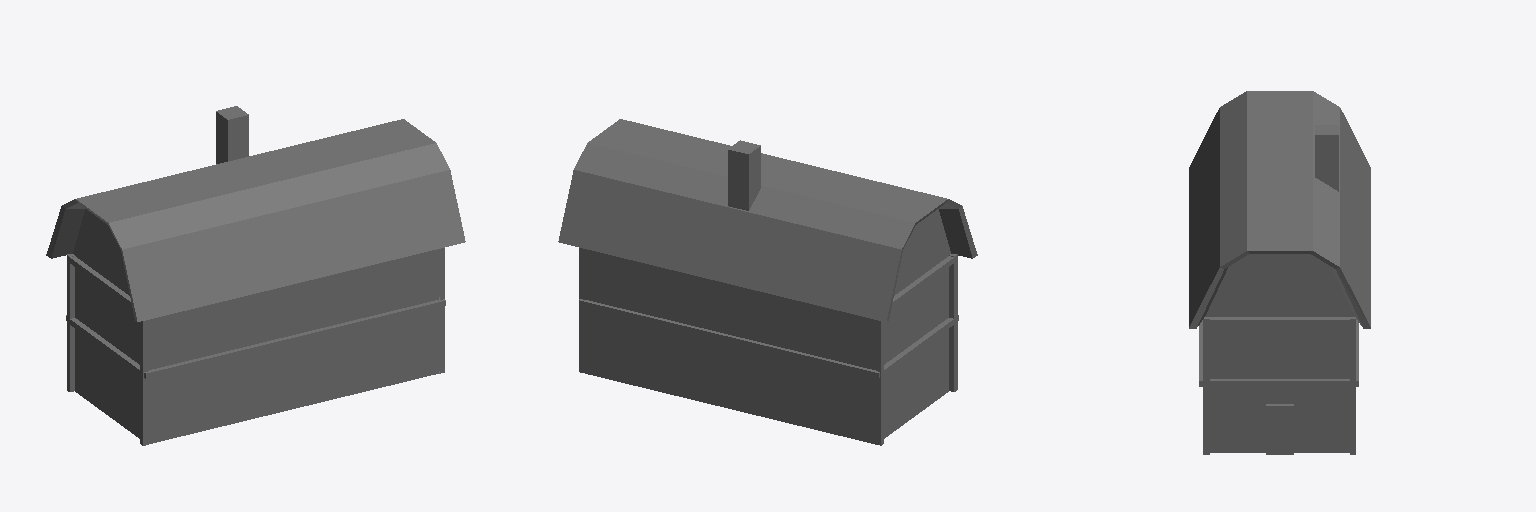
File: house1.obj
3 renders of one model, left to right at view 1: azimuth 30°, elevation 25°; view 2: azimuth 150°, elevation 25°; view 3: azimuth 270°, elevation 25°, orthographic.
Parts seen in each view (by area): view 1: house_1; view 2: house_1; view 3: house_1.
Boxes of the visible parts, box(x1,y1,x2,y2) form: house_1: box(46, 106, 465, 445); house_1: box(558, 119, 977, 445); house_1: box(1189, 91, 1370, 454).
Size of the model in its own units: 2.53 by 1.85 by 1.22.